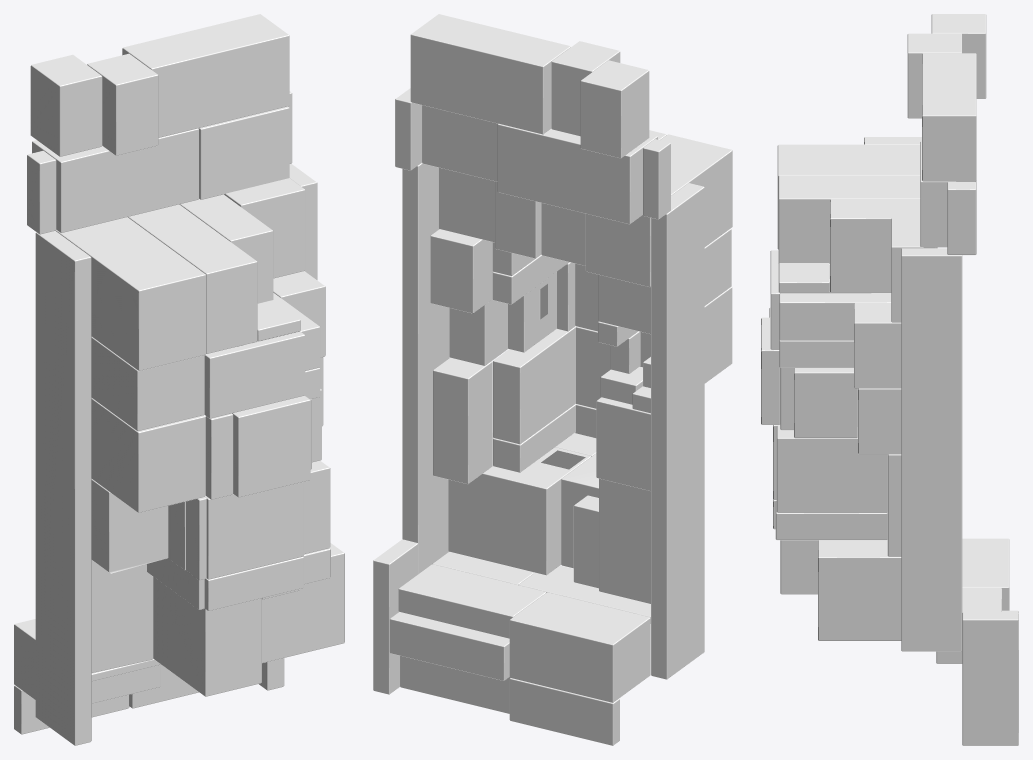
Rendered from SM_wall.fbx.
The picture shows the model from 3 angles, left to right: view 1: azimuth 30°, elevation 25°; view 2: azimuth 150°, elevation 25°; view 3: azimuth 270°, elevation 25°; orthographic projection. The views are drawn at different scales.
Visible parts, largest first — view 1: SM_wall; view 2: SM_wall; view 3: SM_wall.
Part boxes in pixels (<box>): SM_wall: <box>14,14,344,745</box>; SM_wall: <box>373,14,732,745</box>; SM_wall: <box>761,14,1018,745</box>.
Bounding box in the file's own units: 27.89 × 68.21 × 25.52.
